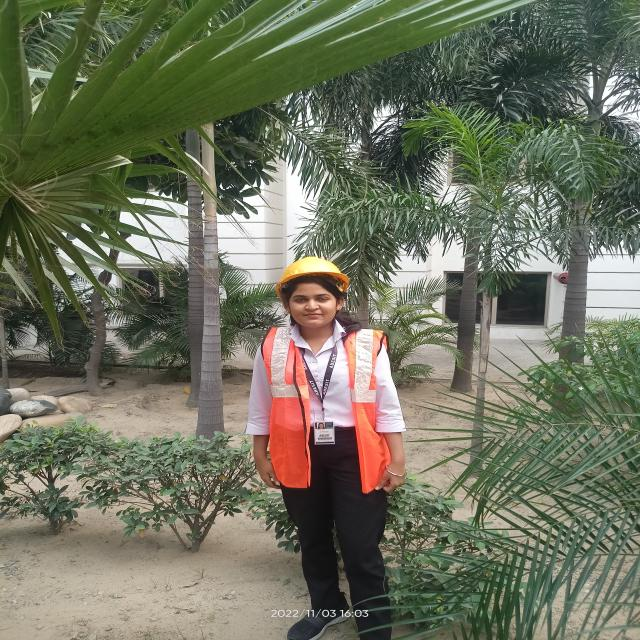safe: (251, 254, 409, 640)
